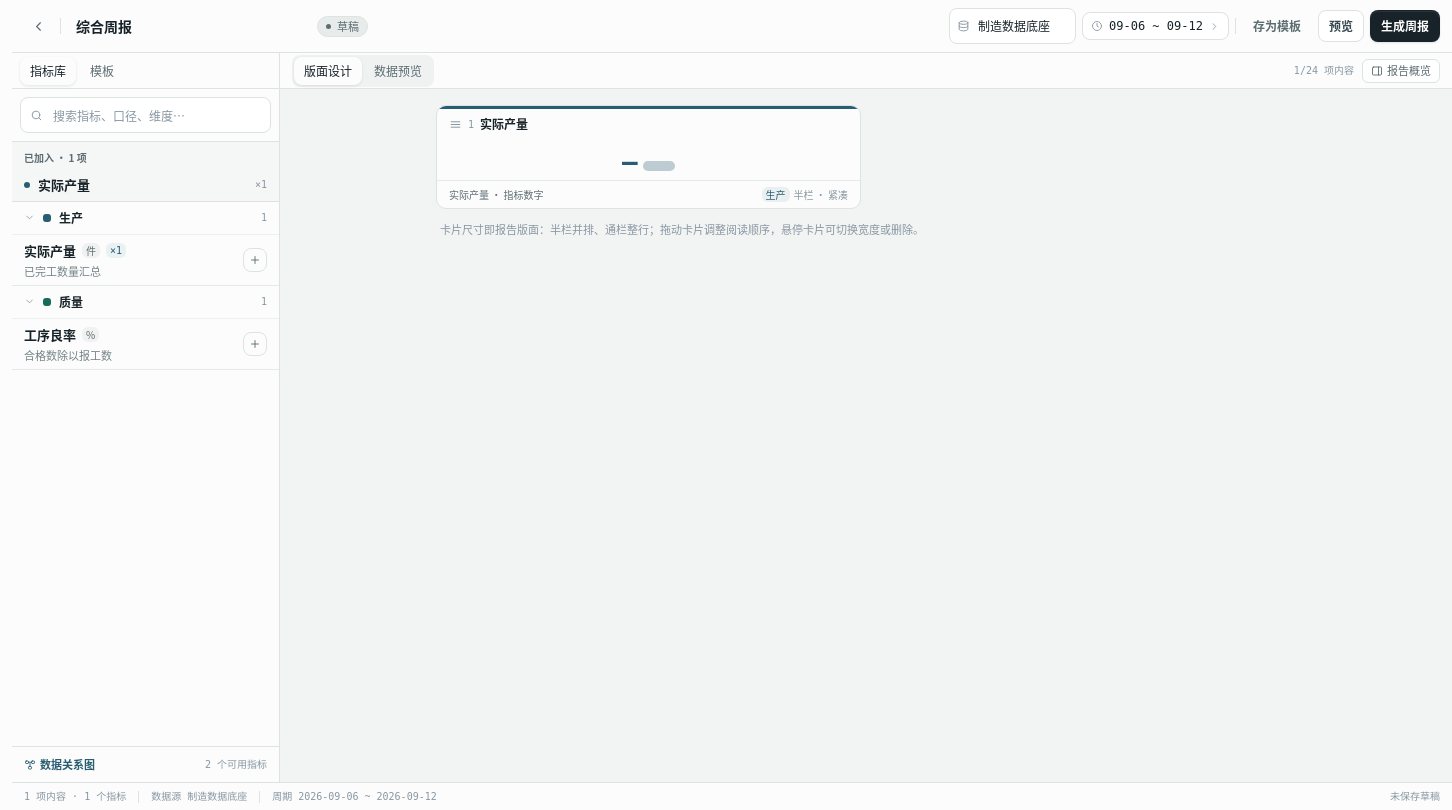
Test: ReportComposerPage › calendar lets a user pick a start and end day to set the period
Expected: the field labelled "搜索指标" is shown, [20, 97, 271, 133]
Click the button named "统计周期" at (1155, 26), box [1082, 12, 1229, 40]
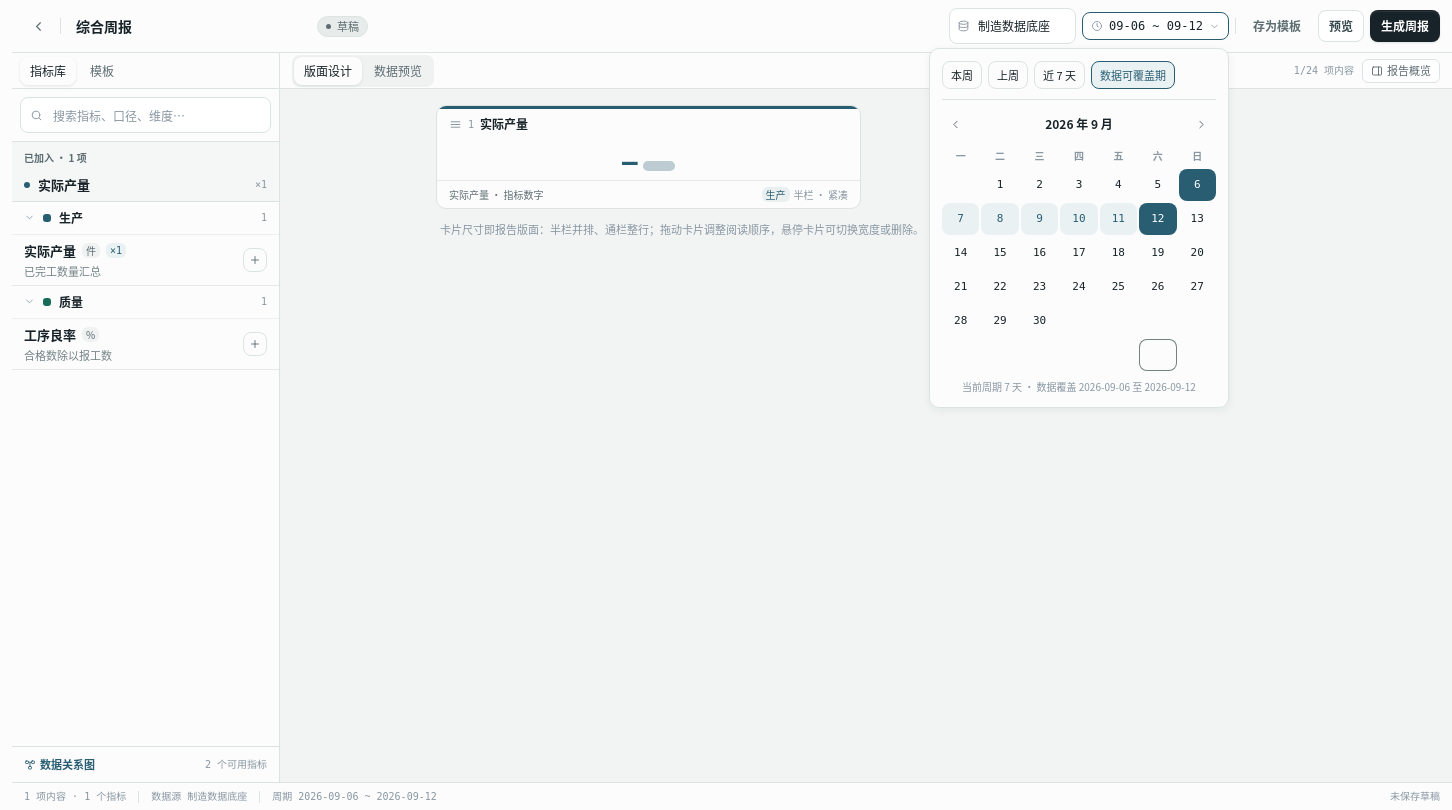
Expected: the button "数据可覆盖期" is shown, [1091, 61, 1175, 89]
Click the 1st button "10" at (1079, 219), box [1060, 203, 1098, 235]
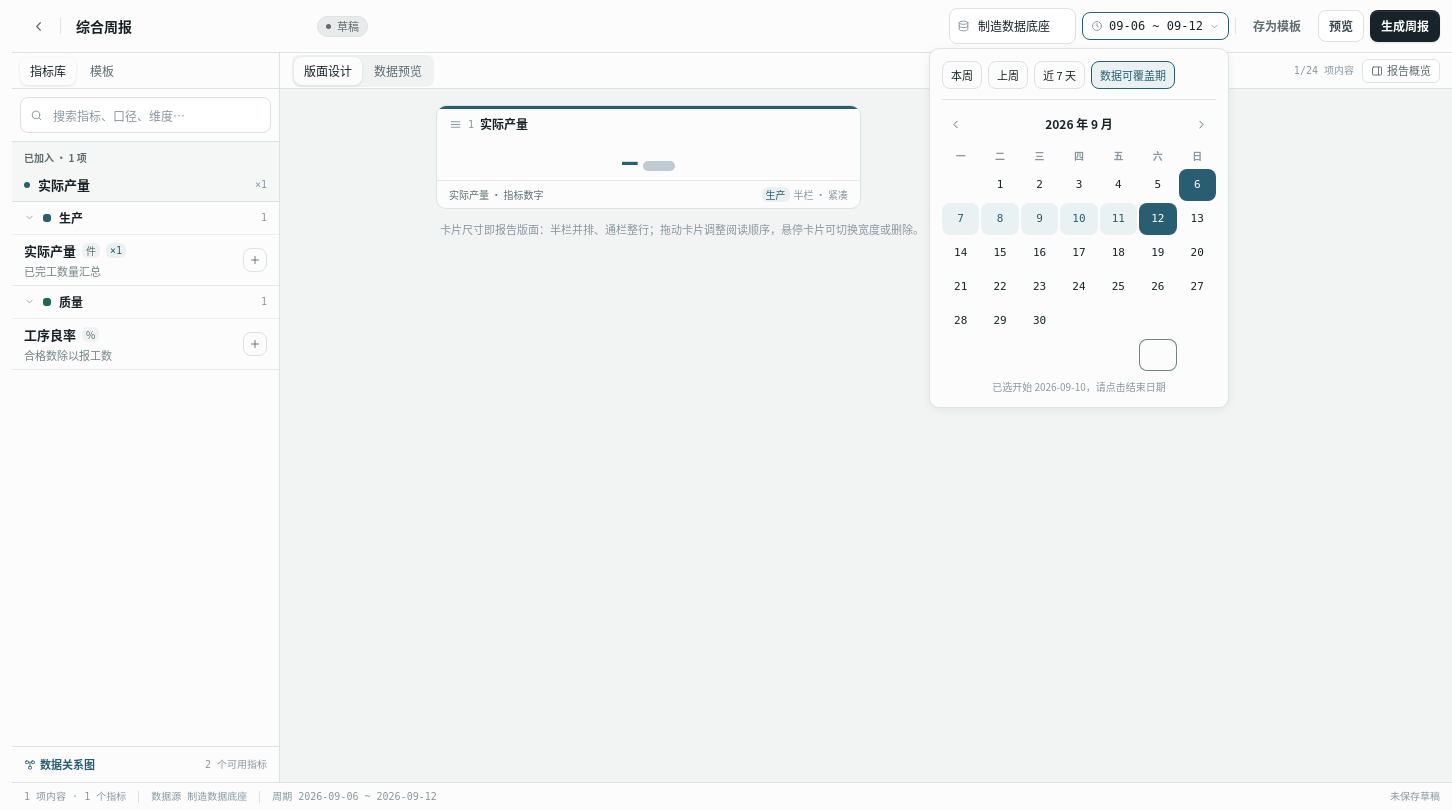
Click the button "12" at (1158, 219), box [1139, 203, 1176, 235]
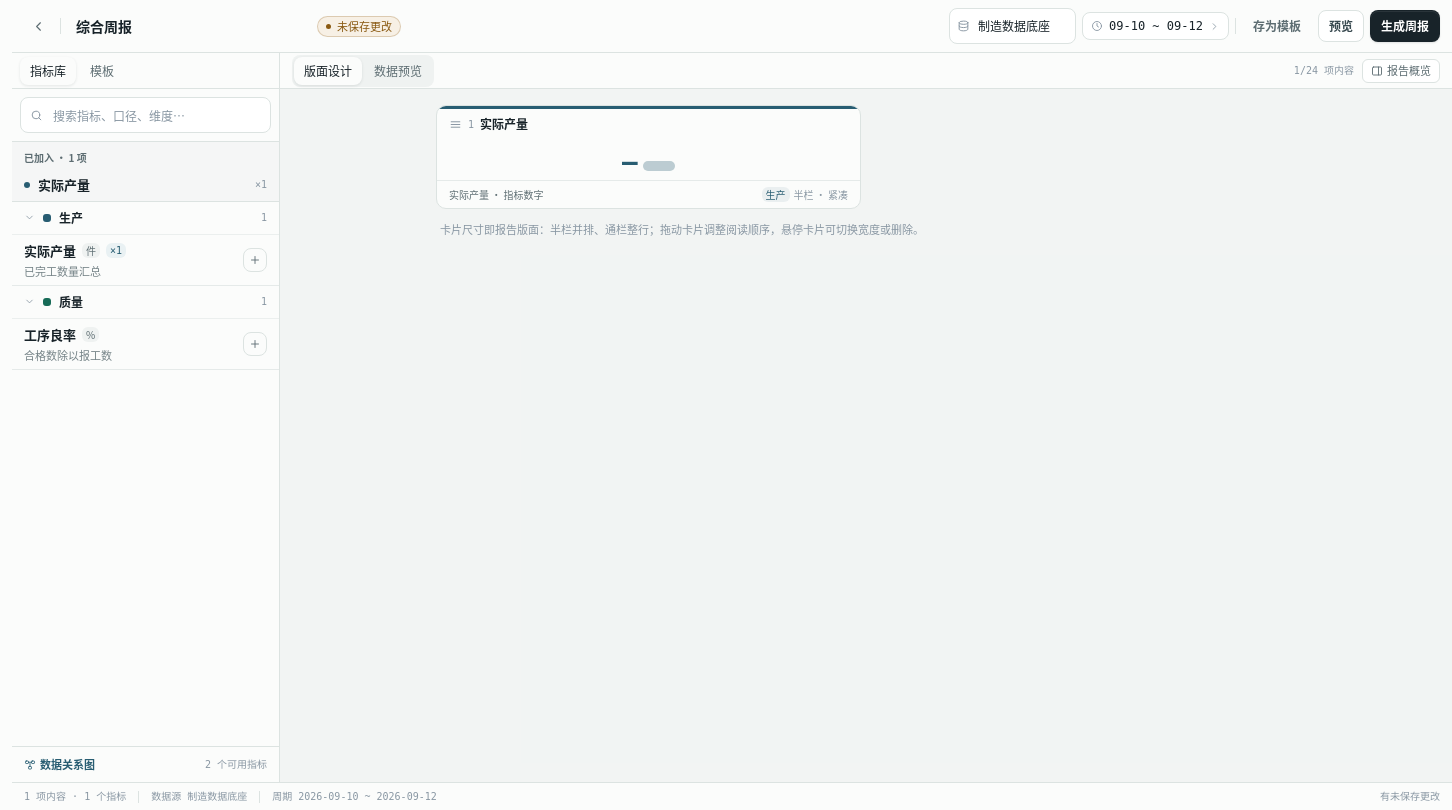
Expected: the button named "统计周期" reads "09-10 ~ 09-12", [1082, 12, 1229, 40]
